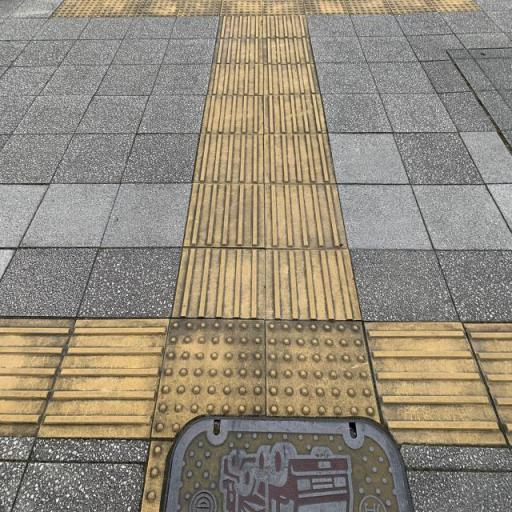dot: (154, 319, 265, 439), (265, 319, 379, 416)
line: (360, 320, 507, 446), (36, 318, 169, 441), (264, 248, 361, 320), (170, 246, 264, 318), (265, 182, 350, 248), (183, 182, 264, 246), (190, 132, 263, 182), (265, 132, 336, 182), (263, 93, 329, 134), (203, 94, 263, 132), (260, 63, 321, 95), (207, 63, 264, 95), (263, 37, 314, 64), (212, 38, 263, 64)
